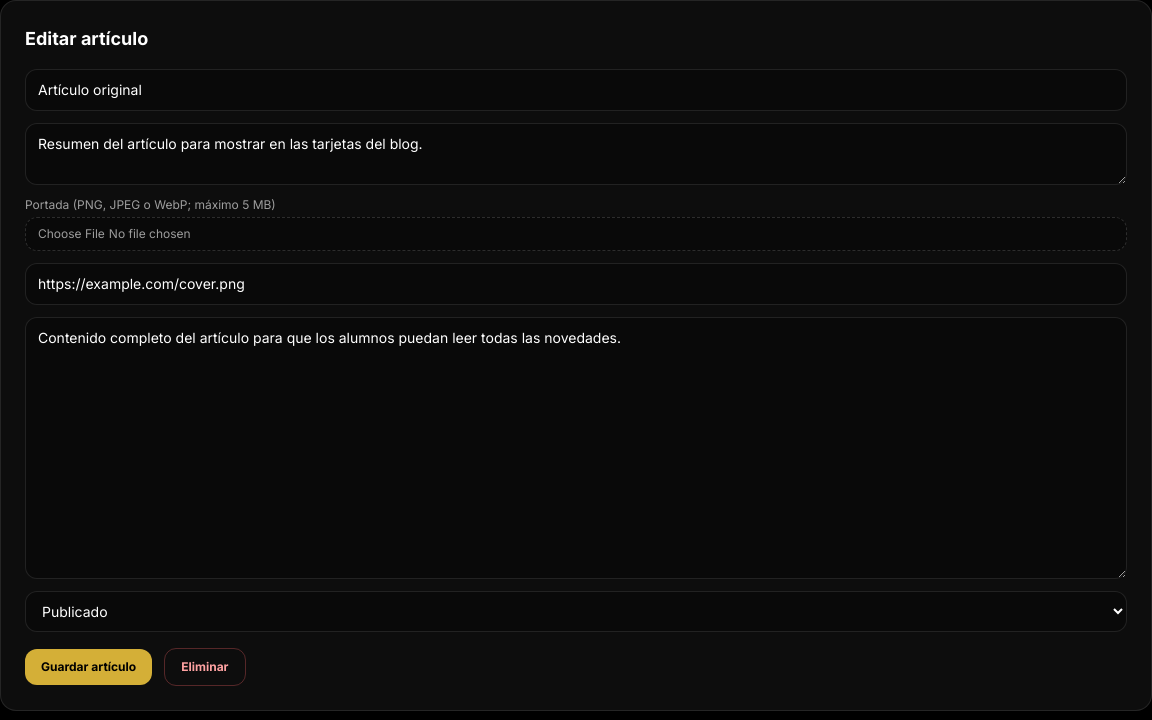
Test: blog admin editor › retains edits and allows retrying when saving fails
Replace the text in the field named "Título" with "Título pendiente" at (576, 90), box [25,69,1127,111]
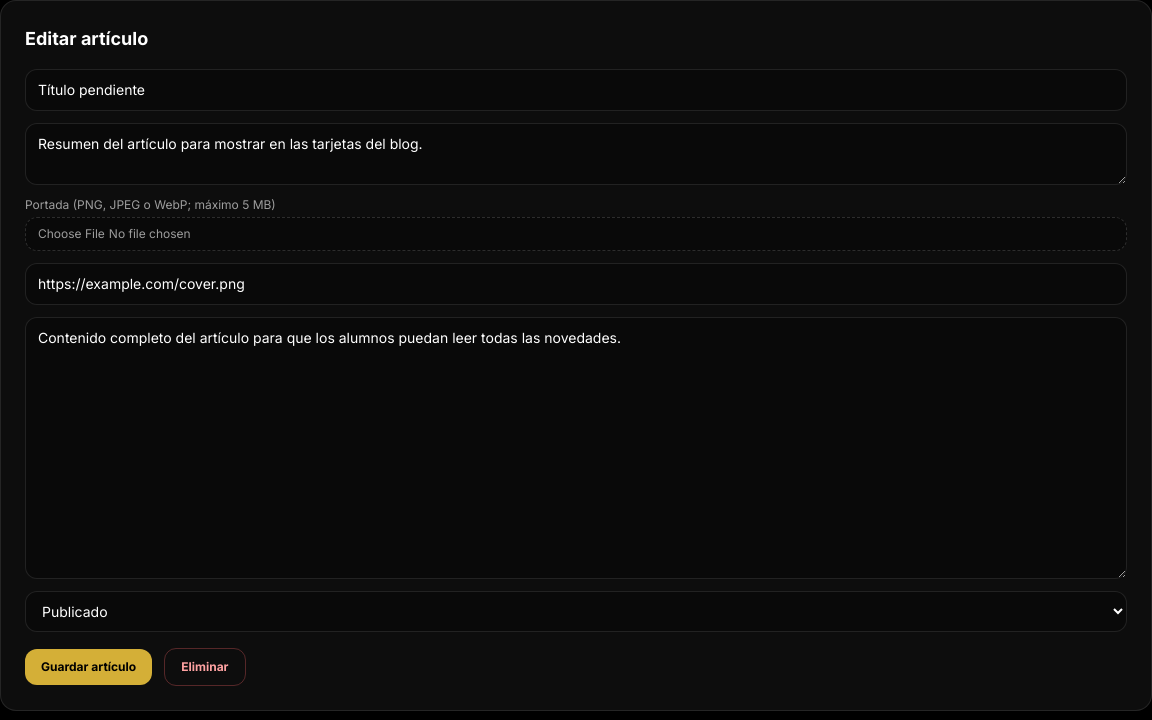
Click the button "Guardar artículo".
click(89, 667)  # box [25,649,152,685]
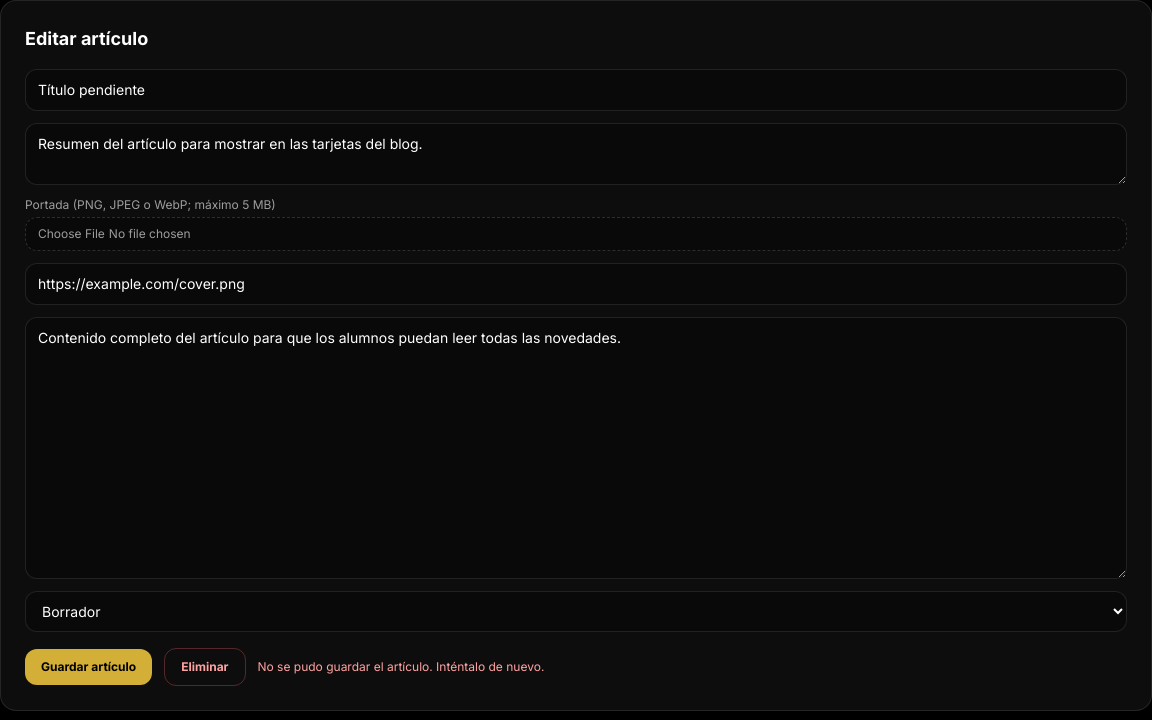
Expected: the message shows "No se pudo guardar", [258,659,544,674]
Click the button "Guardar artículo".
click(89, 667)  # box [25,649,152,685]
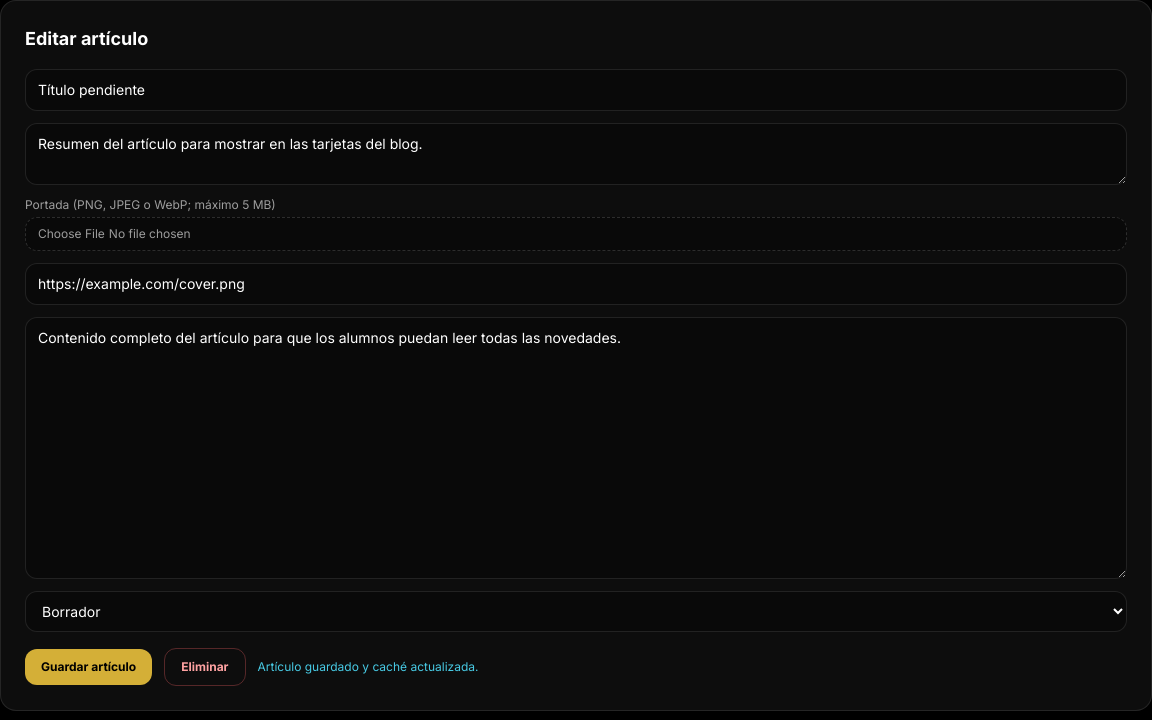
Expected: the message shows "Artículo guardado", [258,659,478,674]
